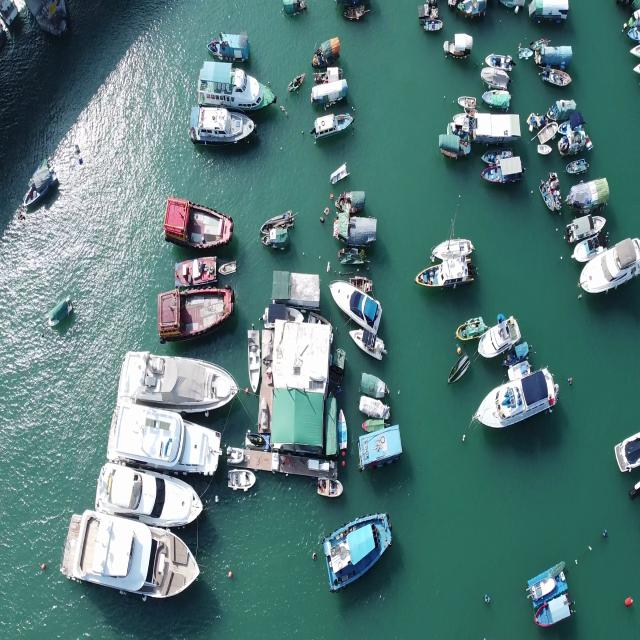ship: (64, 512, 204, 599), (119, 346, 238, 418), (112, 402, 216, 470), (98, 456, 204, 522), (324, 513, 394, 585), (476, 367, 556, 429), (165, 190, 235, 250), (194, 56, 274, 105), (154, 288, 238, 330), (578, 236, 639, 292), (188, 102, 256, 144), (328, 279, 384, 325)
